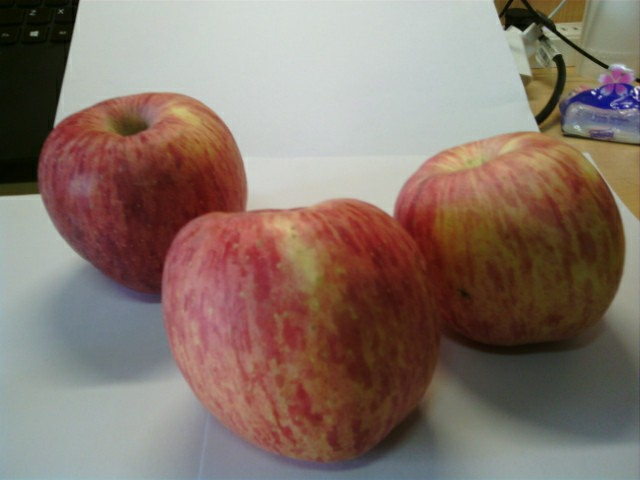normal_apple: (162, 199, 439, 467), (395, 133, 626, 351), (36, 89, 249, 292)
